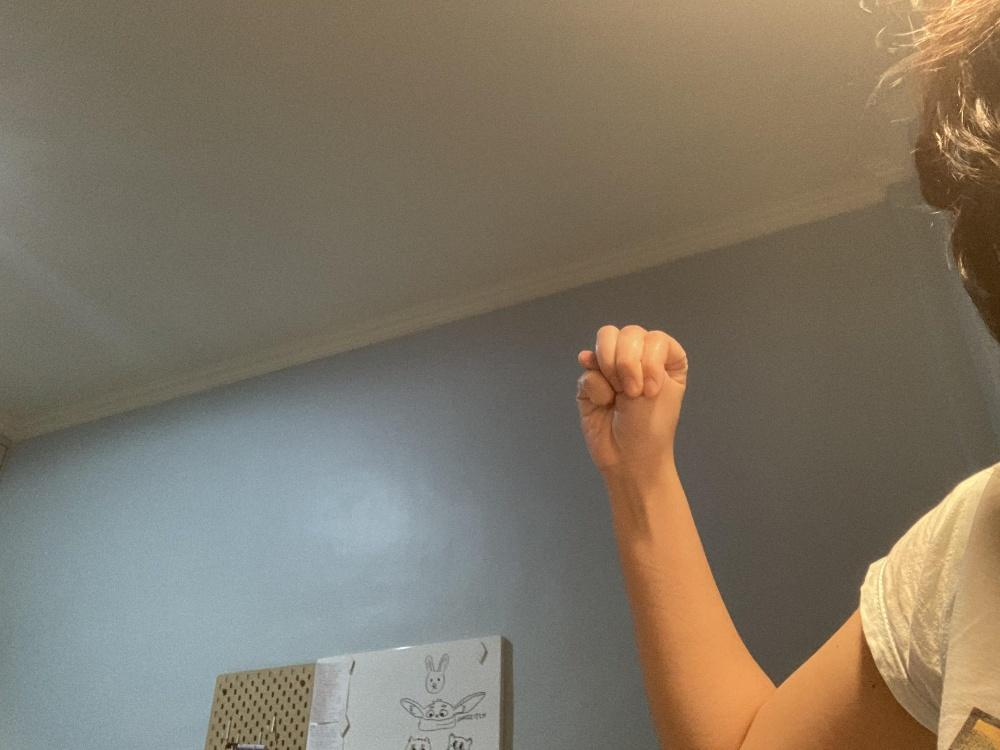m: (574, 324, 687, 468)
